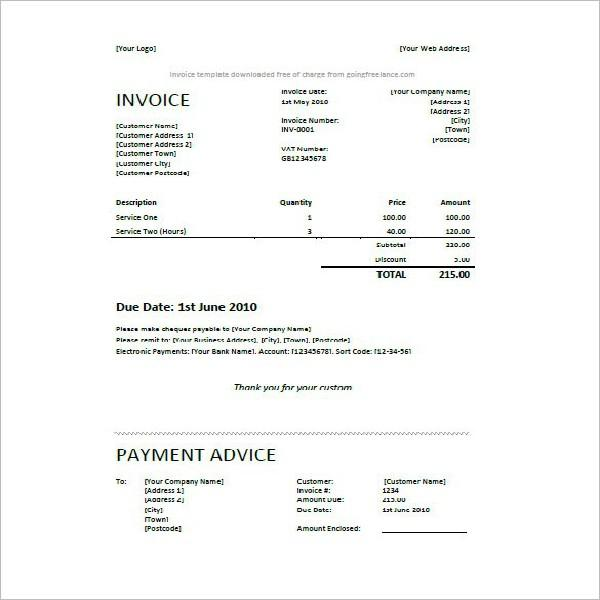test: (2, 2, 599, 599)
